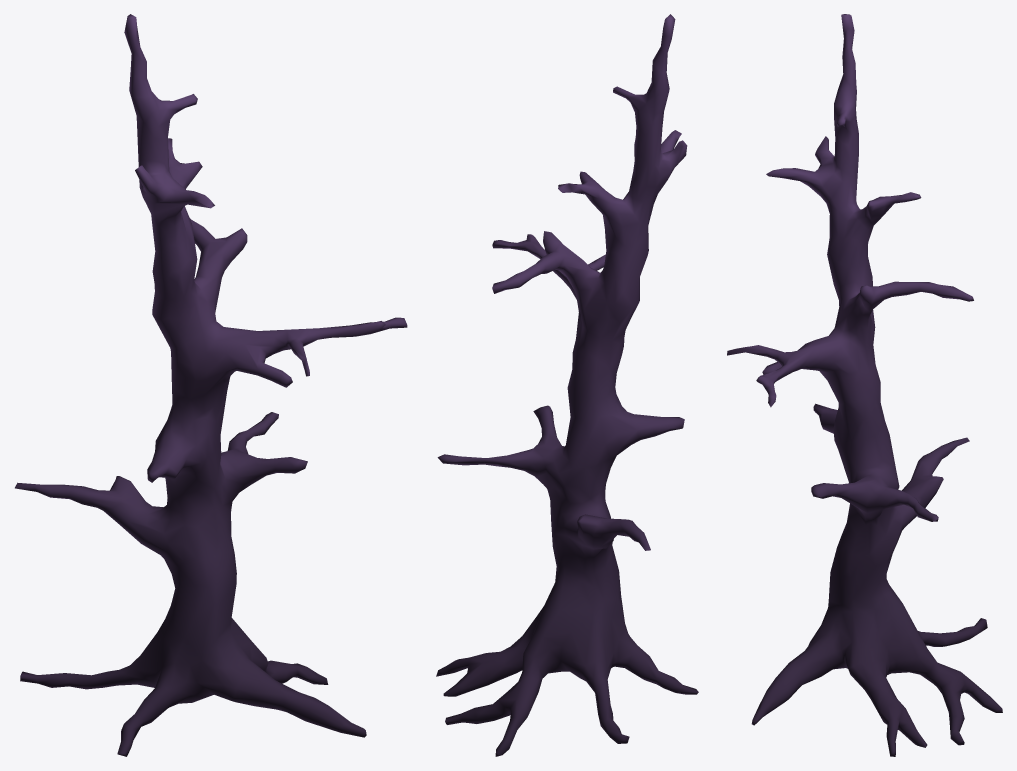
File: tree_L3.fbx
3 renders of one model, left to right at view 1: azimuth 30°, elevation 25°; view 2: azimuth 150°, elevation 25°; view 3: azimuth 270°, elevation 25°, orthographic. The views are drawn at different scales.
Visible parts, largest first — view 1: tree_L3; view 2: tree_L3; view 3: tree_L3.
Part boxes in pixels (x1,y1,x2,y2): tree_L3: (15, 14, 407, 756); tree_L3: (436, 14, 698, 756); tree_L3: (727, 14, 1002, 756).
Bounding box in the file's own units: 335 × 859 × 326.
